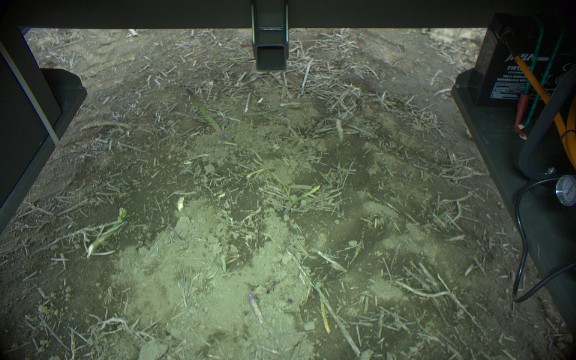aspa: (184, 88, 226, 140), (88, 206, 129, 257), (247, 291, 266, 324)
